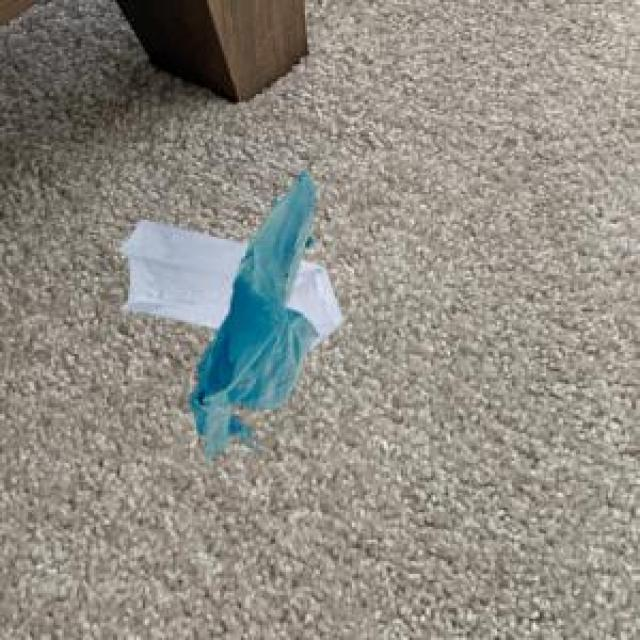plastic: (63, 129, 427, 452)
